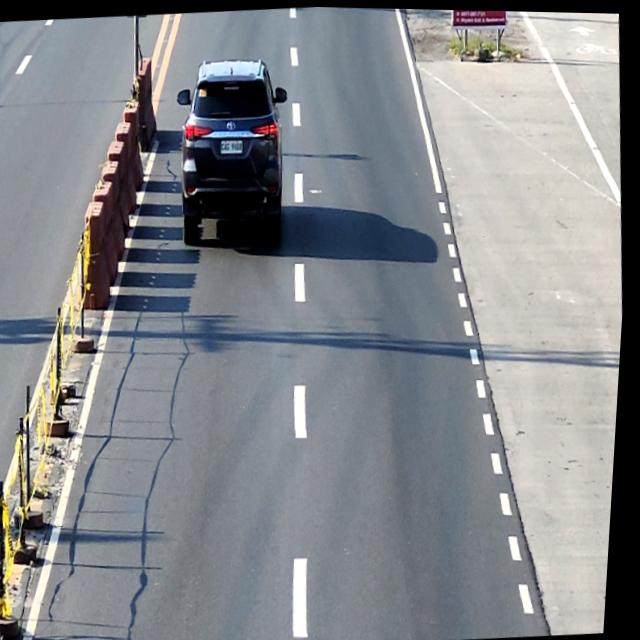Car: (168, 53, 302, 254)
License-Plate: (221, 138, 245, 153)
